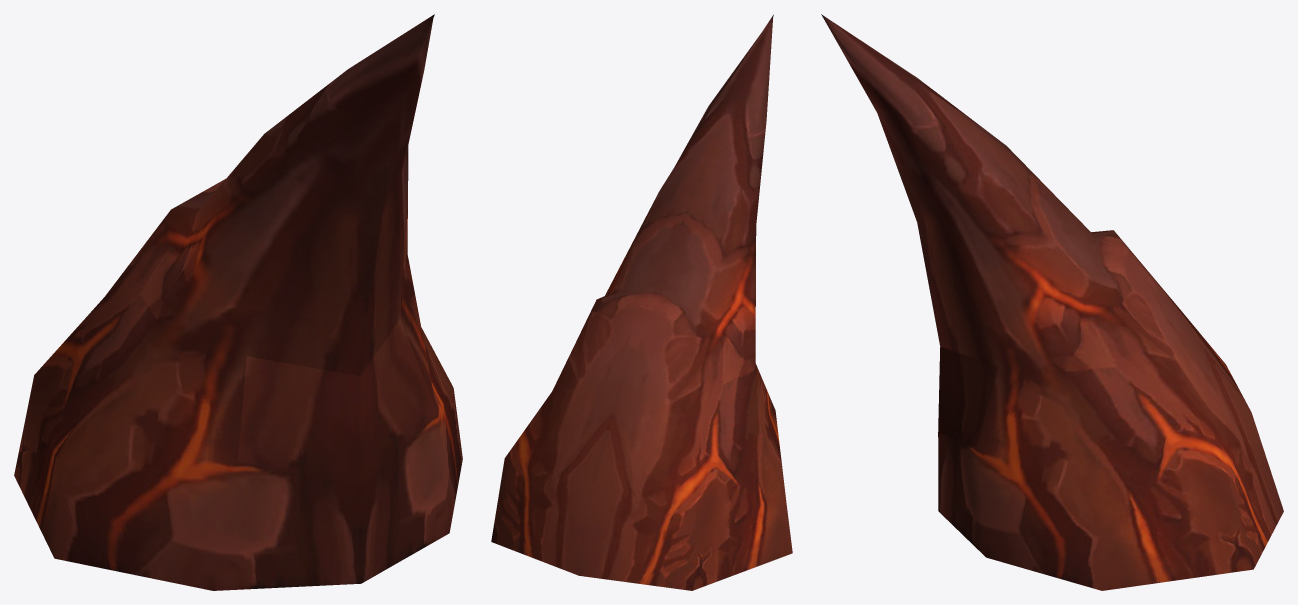
Rendered from Dragon_Stone_04.FBX.
3 views of the same model, side by side, from view 1: azimuth 30°, elevation 25°; view 2: azimuth 150°, elevation 25°; view 3: azimuth 270°, elevation 25° (orthographic). The views are drawn at different scales.
Visible parts, largest first — view 1: Dragon_Stone_04; view 2: Dragon_Stone_04; view 3: Dragon_Stone_04.
Part boxes in pixels (x1,y1,x2,y2): Dragon_Stone_04: (14,14,462,590); Dragon_Stone_04: (491,14,792,590); Dragon_Stone_04: (821,14,1283,590).
Bounding box in the file's own units: 2.12 × 3.1 × 2.61.
